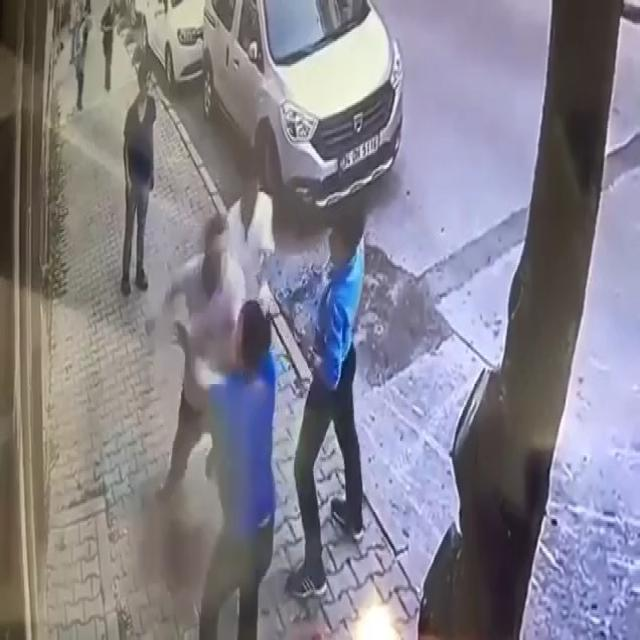fight: (160, 215, 273, 640)
